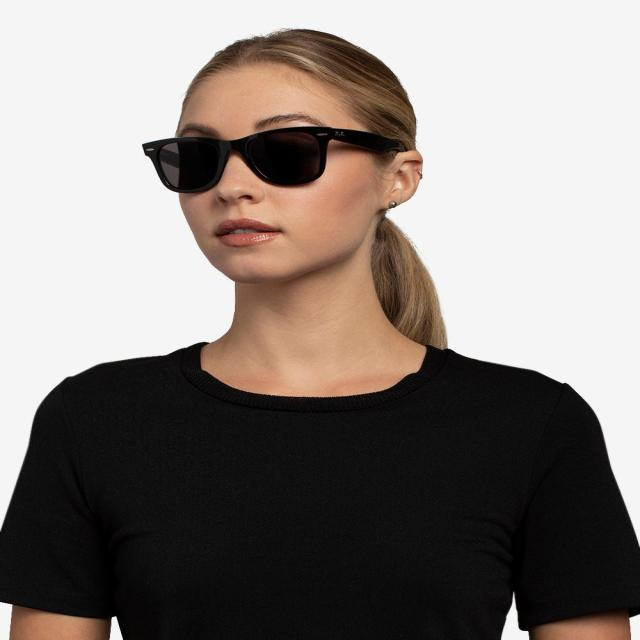2_gafas: (141, 124, 406, 194)
